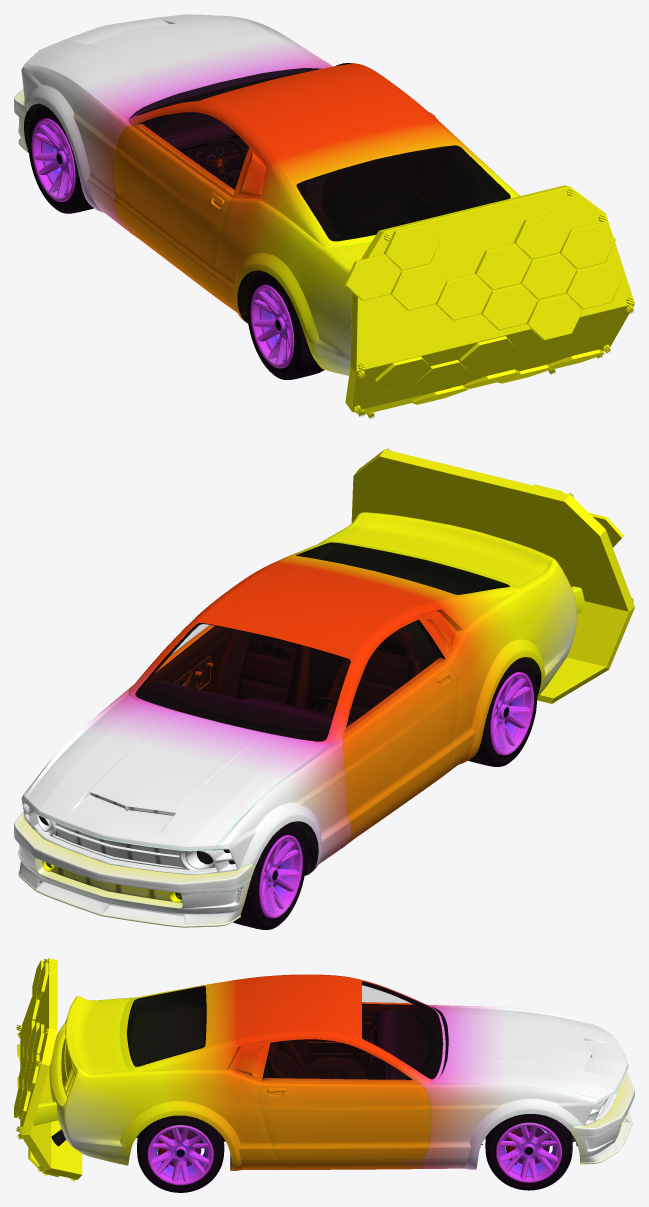
The model's file is dominator5.glb.
3 renders of one model, top to bottom at view 1: azimuth 30°, elevation 25°; view 2: azimuth 150°, elevation 25°; view 3: azimuth 270°, elevation 25°, orthographic. The views are drawn at different scales.
Parts seen in each view (by area): view 1: bodyshell, misc_n, windscreen_r, door_dside_f, chassis, misc_c, wheel_lr, window_lf, wheel_lf, door_pside_f, steeringwheel, bumper_f; view 2: bodyshell, misc_n, chassis, door_dside_f, bumper_f, misc_c, wheel_lf, window_lf, wheel_lr, windscreen_r, misc_f, door_pside_f; view 3: bodyshell, door_pside_f, chassis, misc_n, wheel_rr, wheel_rf, windscreen_r, window_rf, misc_c, bumper_f, door_dside_f, misc_f (+2 smaller).
Part boxes in pixels (x1,y1,x2,y2): bodyshell: (21,14,520,368); misc_n: (344,185,634,418); windscreen_r: (297,146,510,241); door_dside_f: (114,124,234,286); chassis: (31,63,510,323); misc_c: (232,154,416,237); wheel_lr: (246,271,324,379); window_lf: (138,113,248,193); wheel_lf: (28,105,93,213); door_pside_f: (407,149,441,220); steeringwheel: (200,137,245,187); bumper_f: (14,89,32,142); bodyshell: (21,512,576,875); misc_n: (351,448,634,704); chassis: (135,542,541,850); door_dside_f: (343,657,457,834); bumper_f: (14,811,255,913); misc_c: (215,629,421,720); wheel_lf: (233,822,306,929); window_lf: (345,621,443,732); wheel_lr: (468,658,537,766); windscreen_r: (296,542,509,594); misc_f: (18,861,242,927); door_pside_f: (129,625,236,702); bodyshell: (49,974,628,1170); door_pside_f: (260,1078,430,1160); chassis: (126,981,577,1169); misc_n: (14,958,82,1181); wheel_rr: (137,1115,224,1192); wheel_rf: (485,1114,572,1190); windscreen_r: (127,986,205,1066); window_rf: (263,1040,413,1081); misc_c: (266,1039,364,1079); bumper_f: (569,1072,634,1156); door_dside_f: (304,1002,419,1077); misc_f: (580,1112,632,1164).
Bounding box in the file's own units: 2.11 × 1.46 × 5.26.
Materials: 20 (20 with a texture image).
